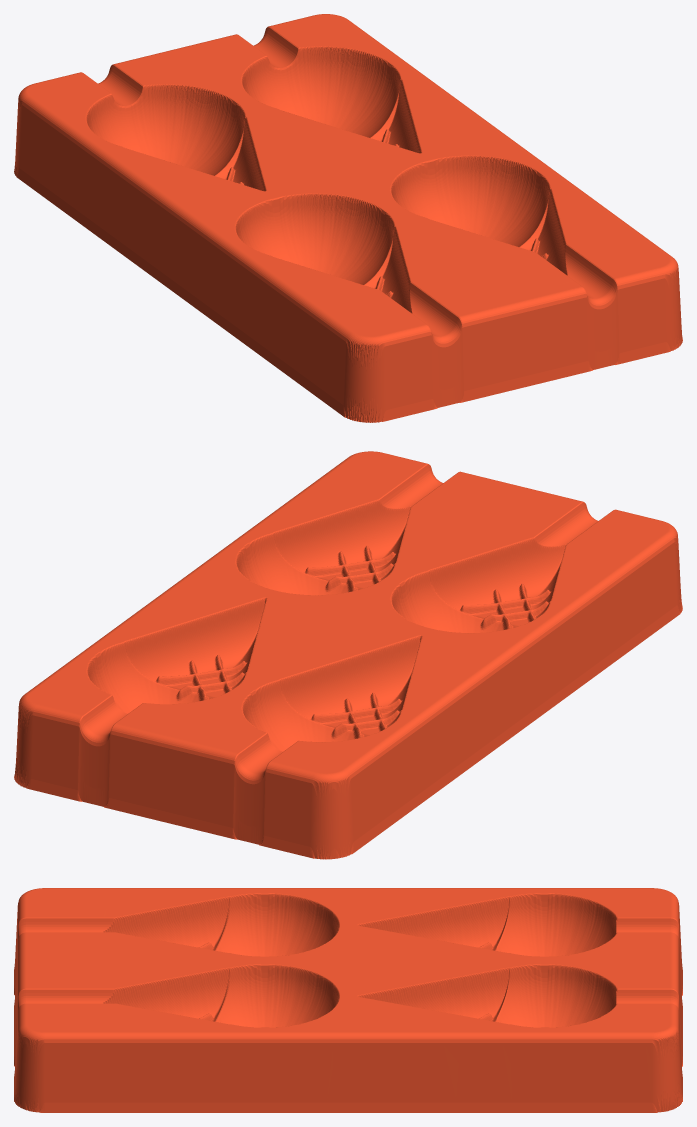
The model's file is mold.glb.
3 renders of one model, top to bottom at view 1: azimuth 30°, elevation 25°; view 2: azimuth 150°, elevation 25°; view 3: azimuth 270°, elevation 25°, orthographic. The views are drawn at different scales.
Visible parts, largest first — view 1: geometry_0; view 2: geometry_0; view 3: geometry_0.
Boxes of the visible parts, box(x1,y1,x2,y2) form: geometry_0: box(14, 14, 682, 422); geometry_0: box(14, 451, 682, 859); geometry_0: box(14, 888, 682, 1112).
Bounding box in the file's own units: 0.107 × 0.0245 × 0.1968.
